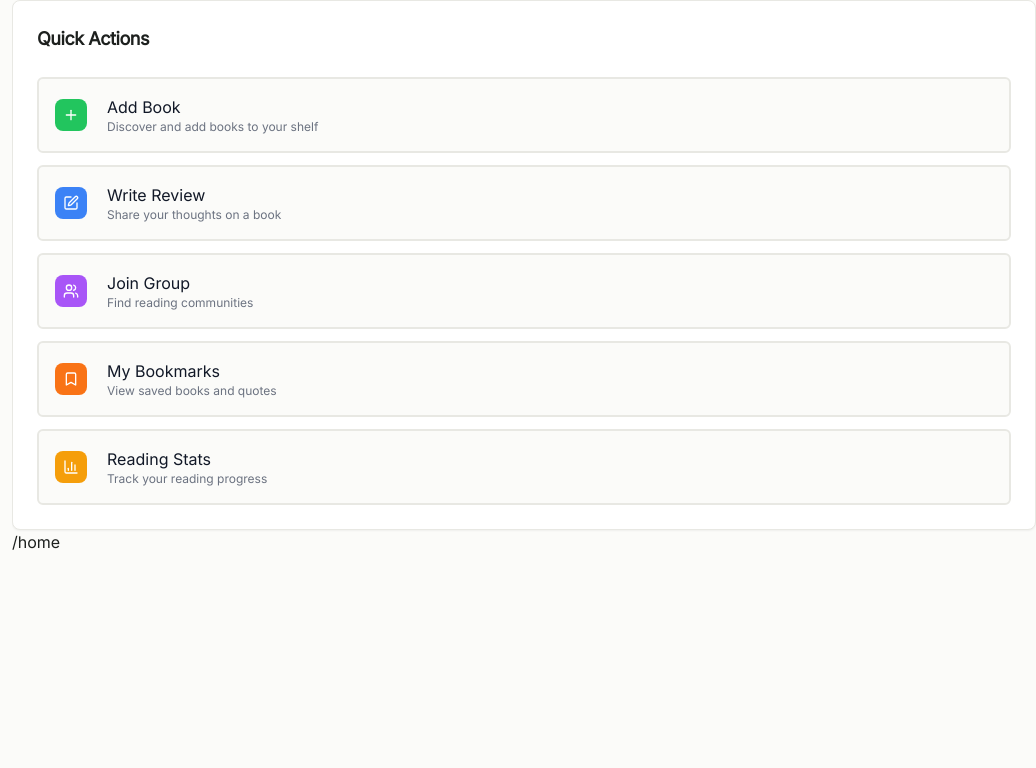
Test: QuickActionsPanel › navigates to the correct destination for Reading Stats
Step 1. Click the button "Reading Stats Track your reading progress" → click(71, 467), box top-left (37, 429), bottom-right (1011, 505)
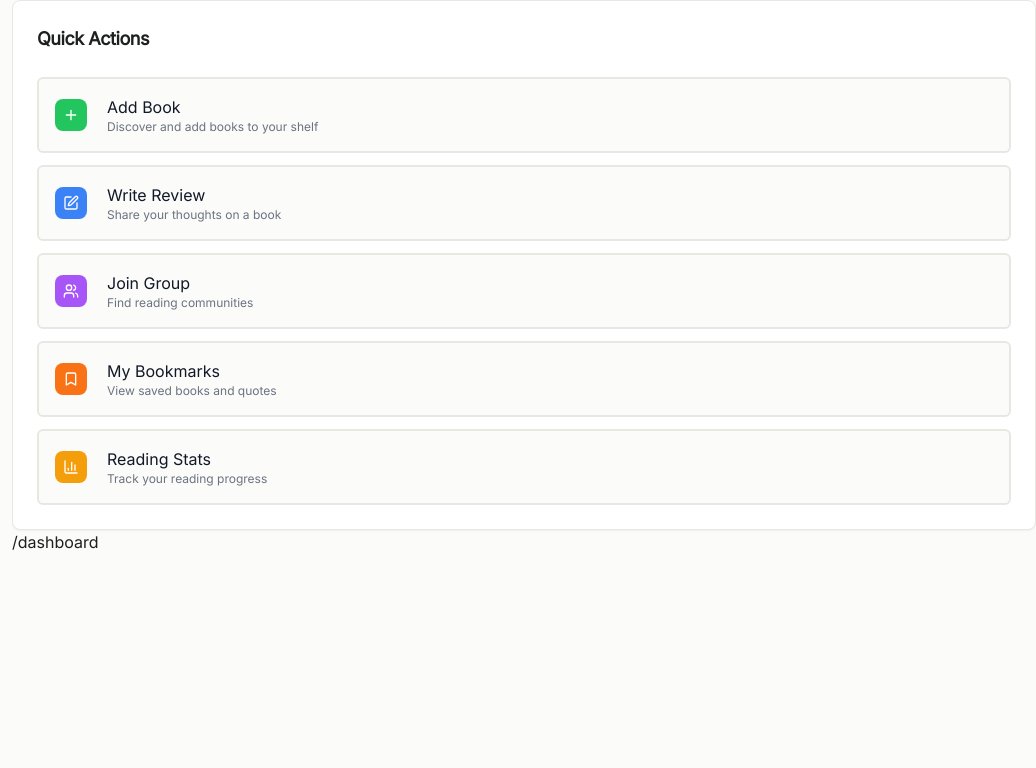
Check: the text named "current route" reads "/dashboard", box top-left (12, 532), bottom-right (98, 552)
